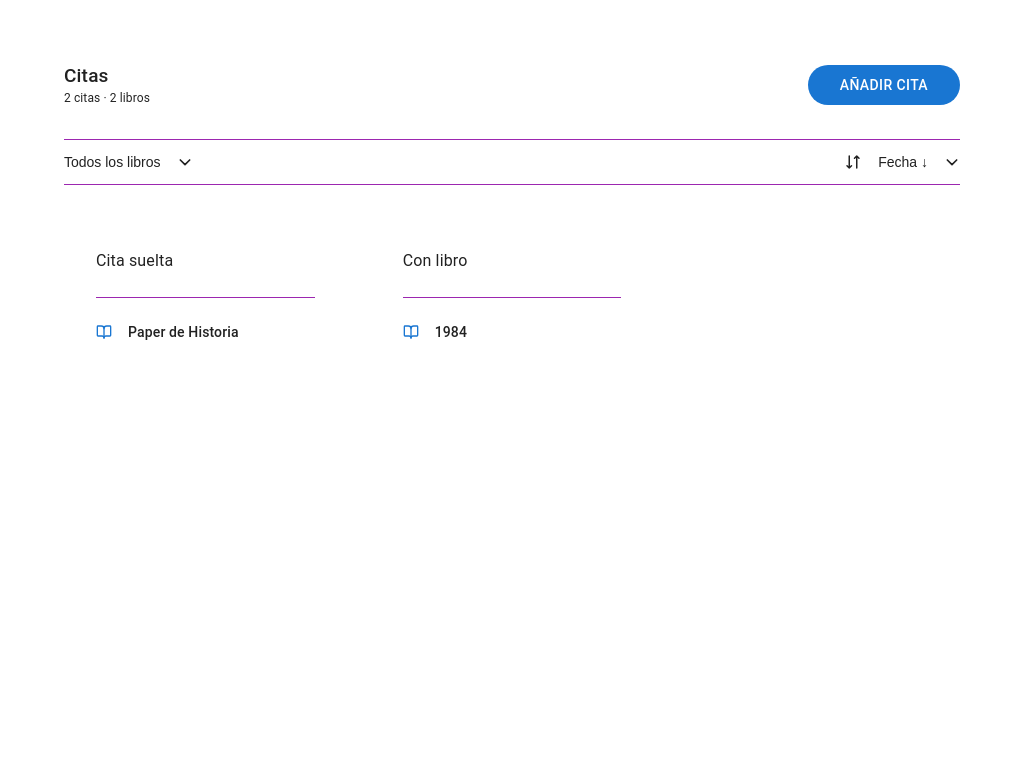
it: Given the quotes page › When the user has quotes without a book › Then the feed shows the source in place of the book and the filter lists Sin libro
The image size is (1024, 768).
Expected: the text "Cita suelta" is shown, [96,251,173,270]
Expected: the text "Paper de Historia" is shown, [128,322,239,343]
Click the button "Todos los libros" at (128, 162), box [48,140,208,184]
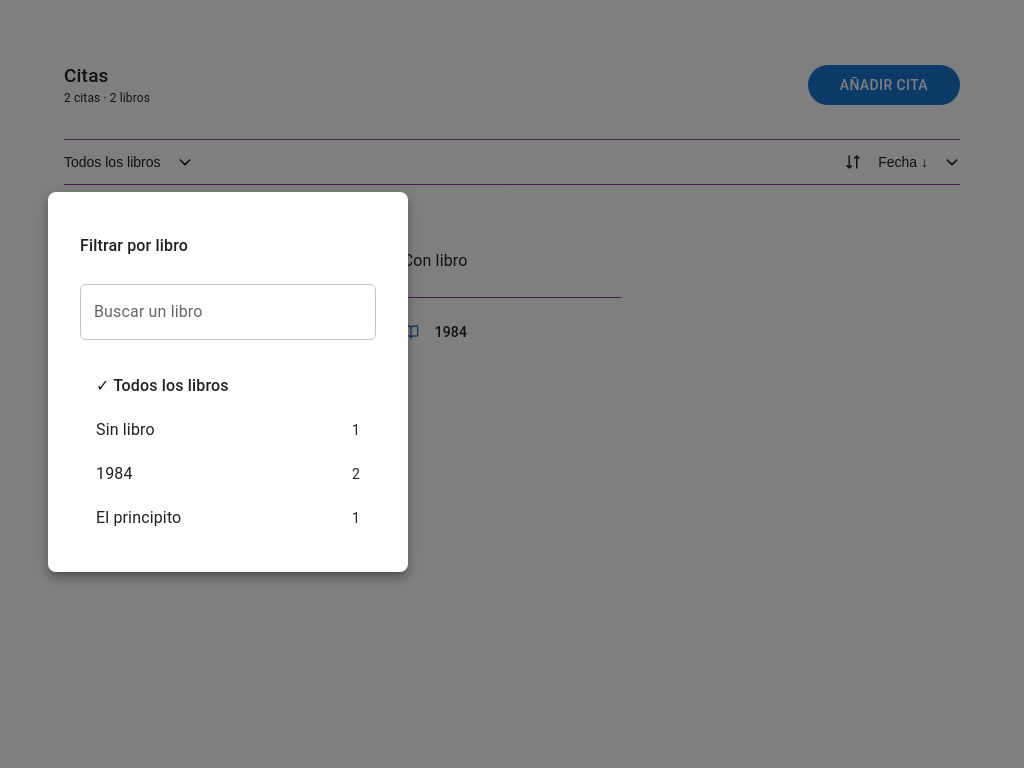
Click the button "Sin libro 1" at (125, 430), box [80,408,376,452]
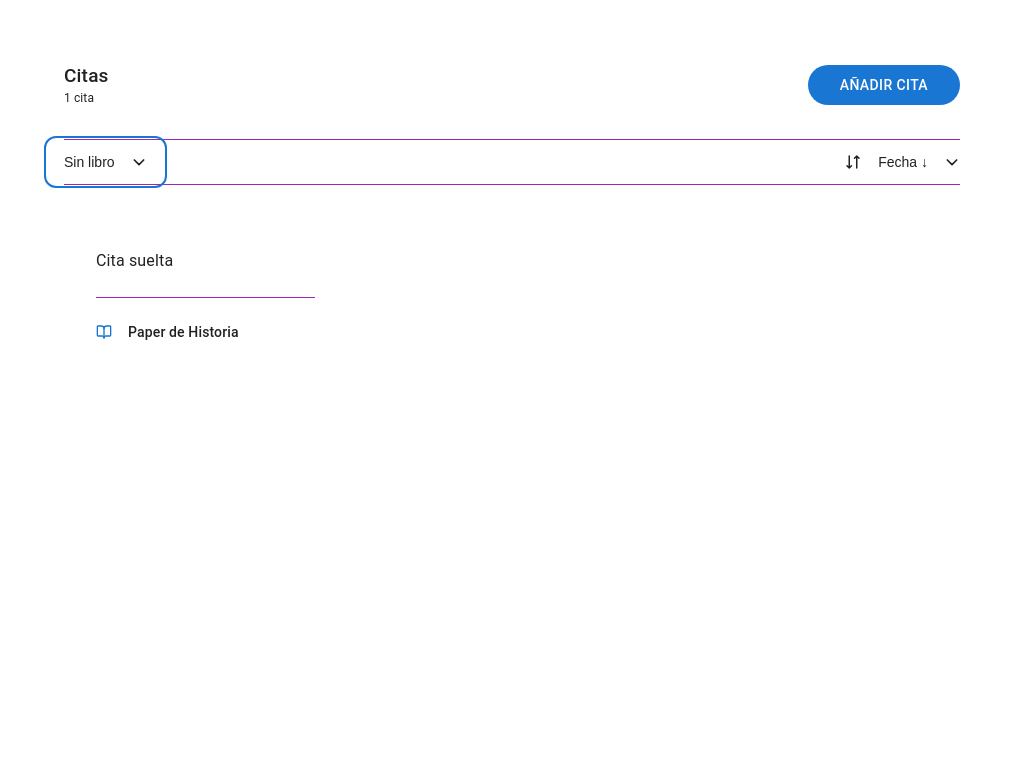
Expected: the link "Con libro" is gone
Expected: the button "Sin libro" is shown, [48,140,163,184]
